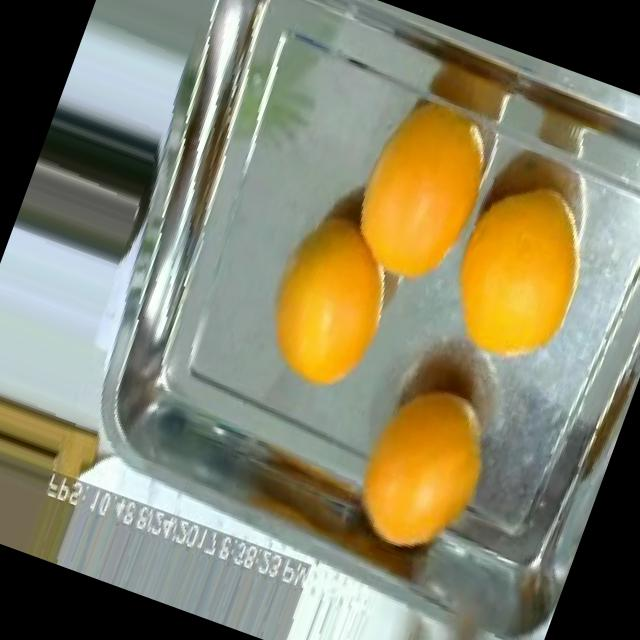Fruit: (327, 350, 528, 590), (425, 154, 621, 393), (242, 221, 415, 414)
